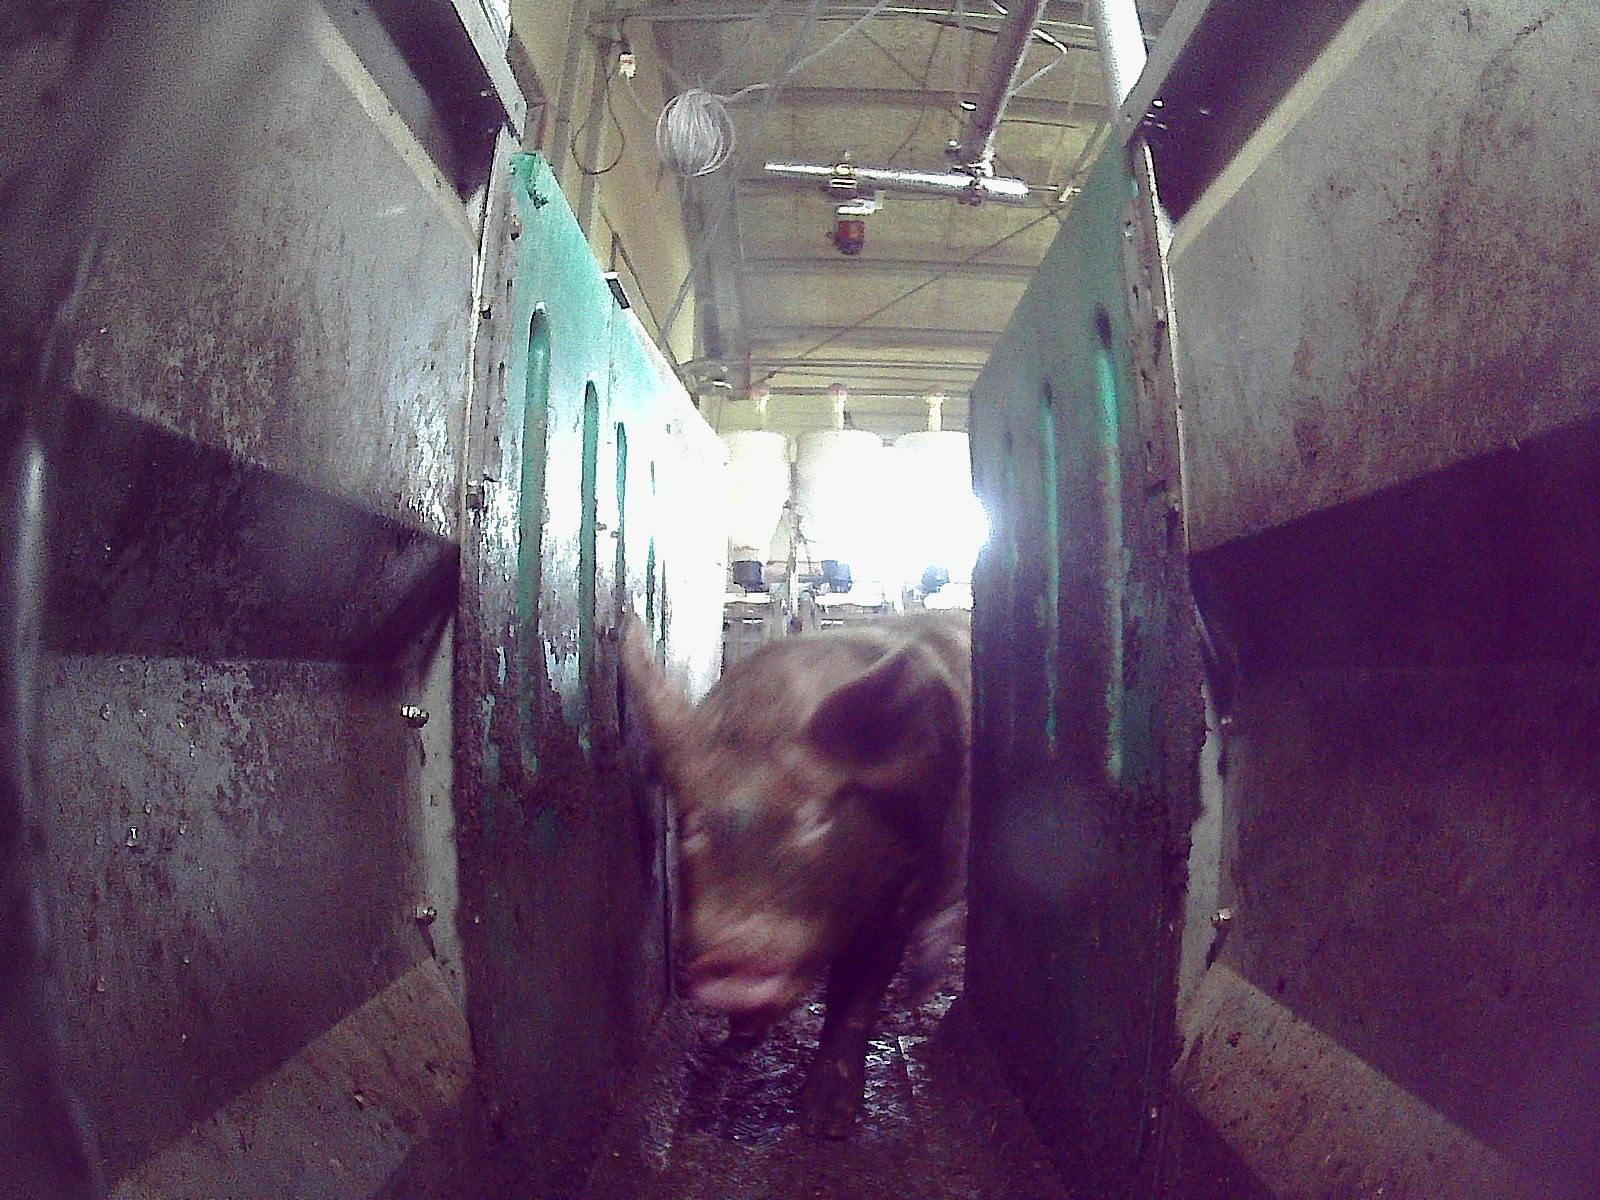Face: (652, 691, 889, 1006)
